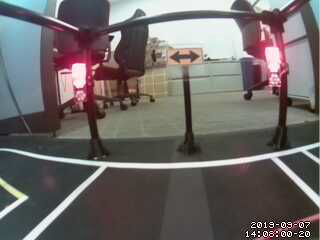Left_Right_sign: (264, 49, 280, 84), (69, 64, 84, 101)
